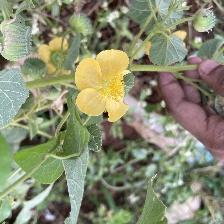indian mallow: (74, 50, 135, 125)
